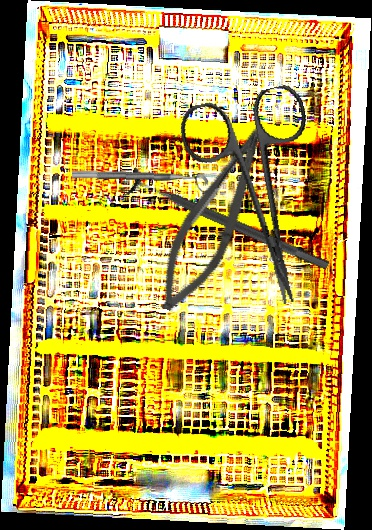Fixation Ring: (121, 166, 335, 282), (71, 169, 209, 195)
Iris Scissors: (175, 82, 346, 318)
Micro Scissor: (145, 111, 279, 323)
